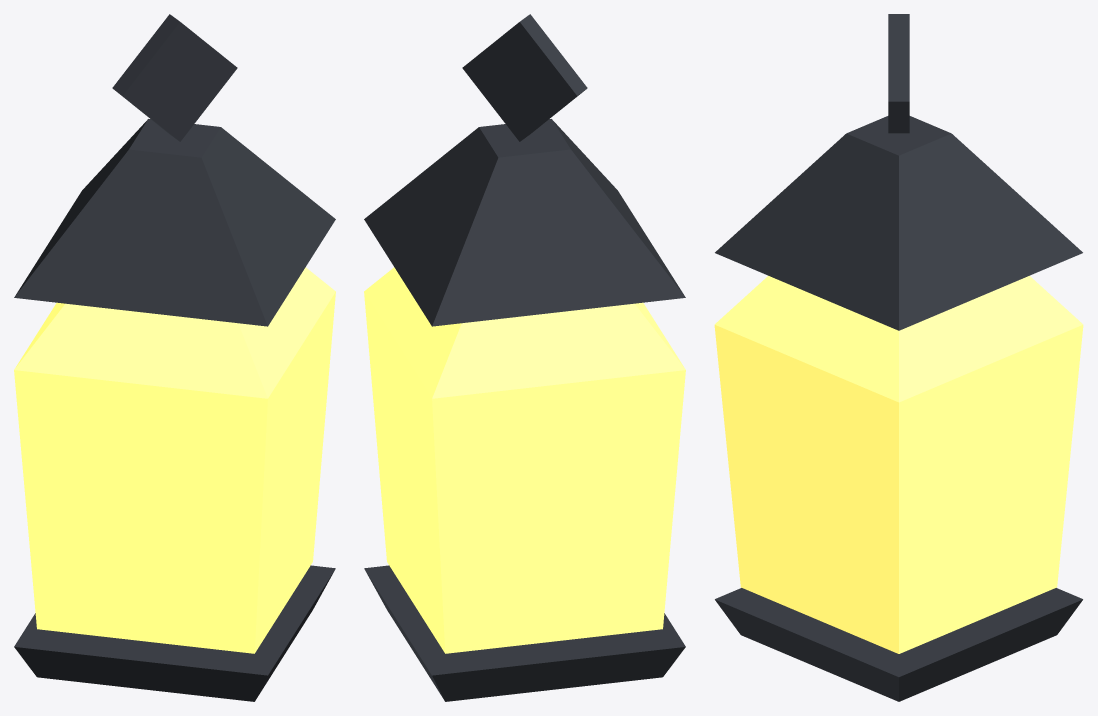
Rendered from SM_Prop_HangingLantern_LQ.glb.
3 views of the same model, side by side, from view 1: azimuth 30°, elevation 25°; view 2: azimuth 150°, elevation 25°; view 3: azimuth 270°, elevation 25° (orthographic).
Visible parts, largest first — view 1: SM_Prop_HangingLantern_LQ; view 2: SM_Prop_HangingLantern_LQ; view 3: SM_Prop_HangingLantern_LQ.
Part boxes in pixels (<box>): SM_Prop_HangingLantern_LQ: <box>14,14,335,701</box>; SM_Prop_HangingLantern_LQ: <box>364,14,685,701</box>; SM_Prop_HangingLantern_LQ: <box>714,14,1083,701</box>.
Size of the model in its own units: 0.28 by 0.52 by 0.28.
1 material, 1 textured.
